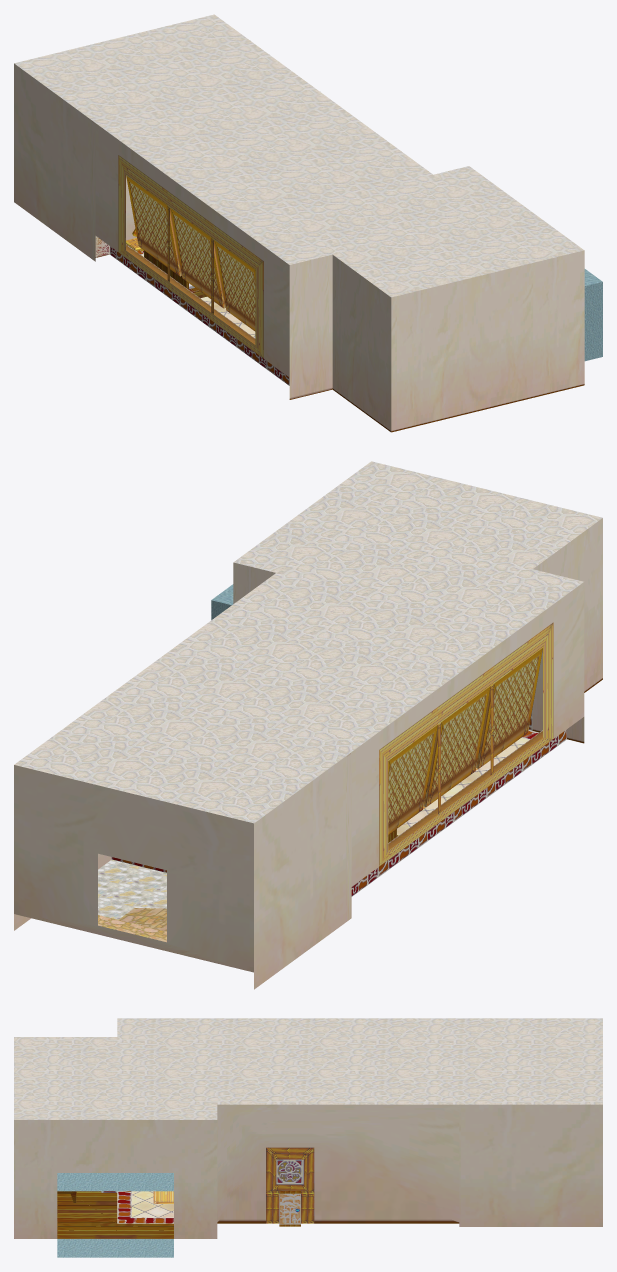
The model's file is reflectparts_bake.dae.
The picture shows the model from 3 angles, top to bottom: view 1: azimuth 30°, elevation 25°; view 2: azimuth 150°, elevation 25°; view 3: azimuth 270°, elevation 25°; orthographic projection. The views are drawn at different scales.
Visible parts, largest first — view 1: m2, m4, m3, m6, m10; view 2: m4, m2, m3, m6, m8, m7, m9; view 3: m2, m4, m10, m3, m9, m6, m0.
Part boxes in pixels (bbox=[...]): m2: bbox=[14, 63, 584, 432]; m4: bbox=[14, 14, 583, 297]; m3: bbox=[118, 155, 263, 358]; m6: bbox=[95, 237, 289, 385]; m10: bbox=[584, 269, 602, 361]; m4: bbox=[14, 461, 602, 823]; m2: bbox=[14, 518, 602, 989]; m3: bbox=[379, 622, 553, 866]; m6: bbox=[111, 708, 566, 896]; m8: bbox=[98, 859, 166, 919]; m7: bbox=[98, 908, 166, 942]; m9: bbox=[397, 738, 528, 835]; m2: bbox=[14, 1104, 602, 1238]; m4: bbox=[14, 1018, 602, 1119]; m10: bbox=[57, 1173, 173, 1257]; m3: bbox=[153, 1147, 314, 1223]; m9: bbox=[132, 1191, 173, 1217]; m6: bbox=[101, 1191, 173, 1223]; m0: bbox=[279, 1193, 300, 1224].
Size of the model in its own units: 1948 by 925 by 4038.
